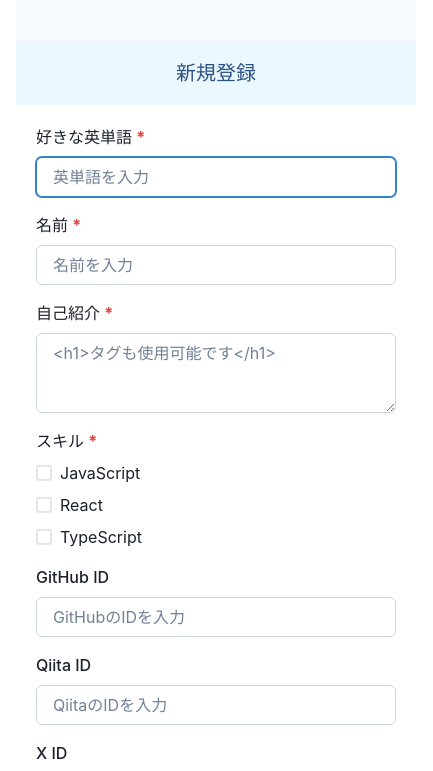
it: Register Component › 名前が未入力状態で登録された場合に、エラーメッセージが表示されること
//  名前以外を入力
Type "testuser" into the field with test id "user-id-input" at (216, 177), box 36,157 -> 396,197
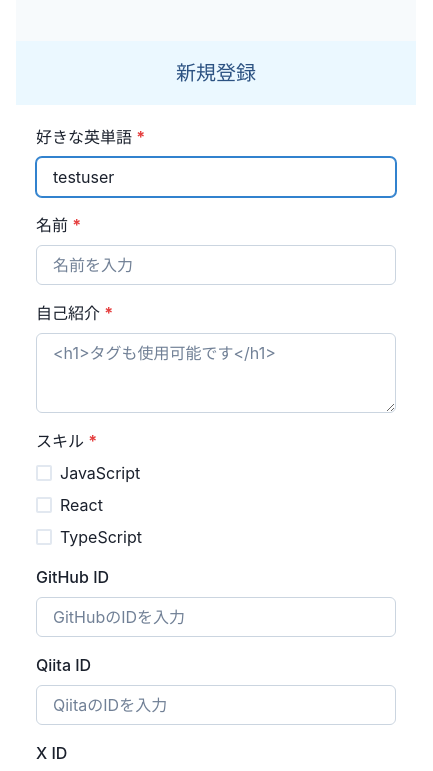
Type "これはテスト用の自己紹介です" into the text box with test id "description-input" at (216, 373), box 36,333 -> 396,413
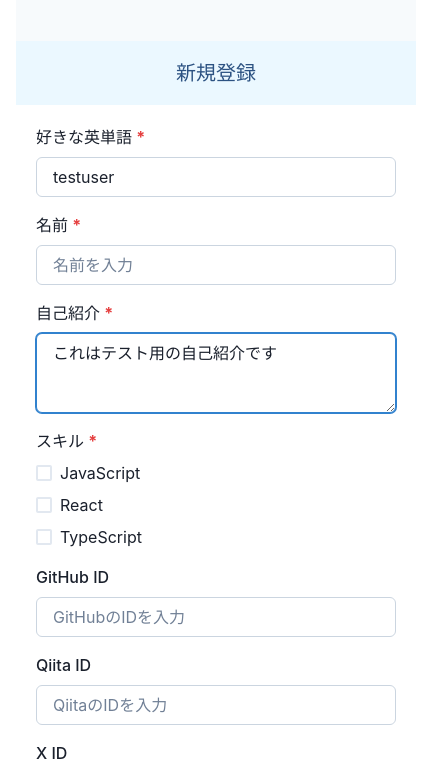
Click the text "JavaScript" at (100, 473), box 60,461 -> 140,485
(page scrolled)
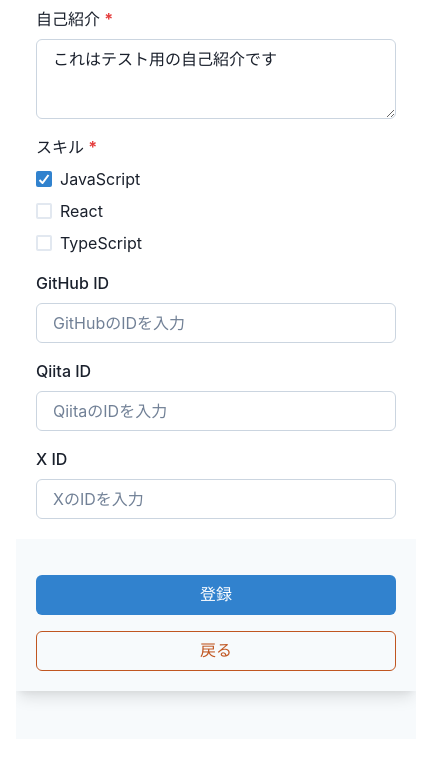
Click the button with test id "register-button" at (216, 595), box 36,575 -> 396,615
(page scrolled)
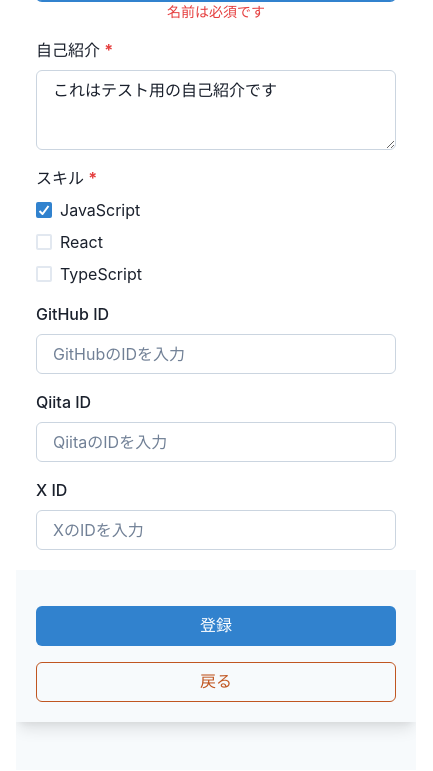
Expected: the text "名前は必須です" is shown, 167,3 -> 265,20
